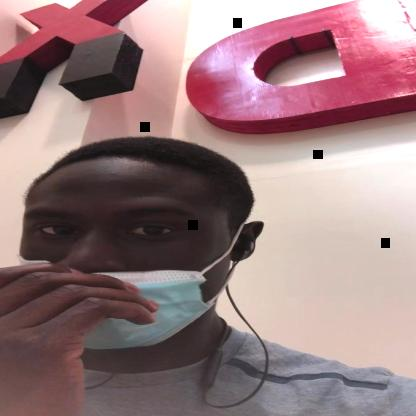mask: (17, 175, 245, 351)
